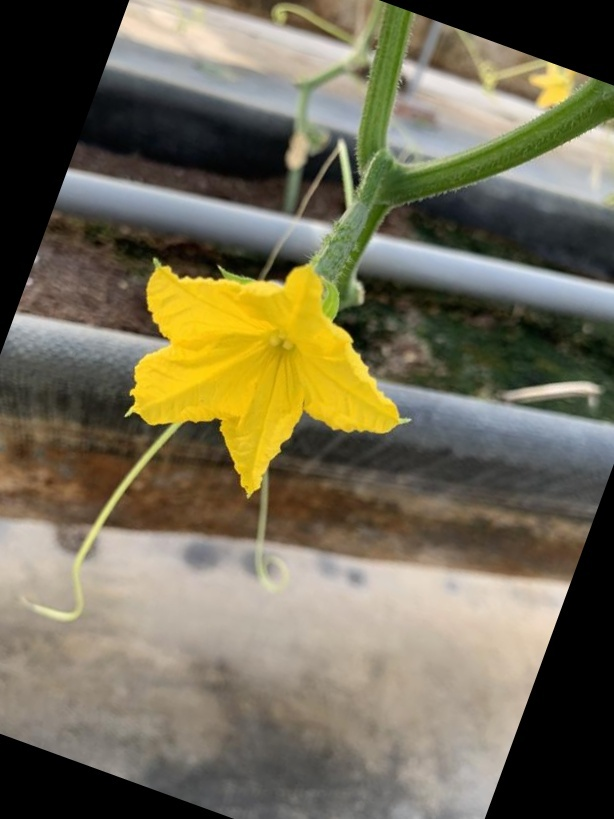flowering: (121, 168, 442, 498)
